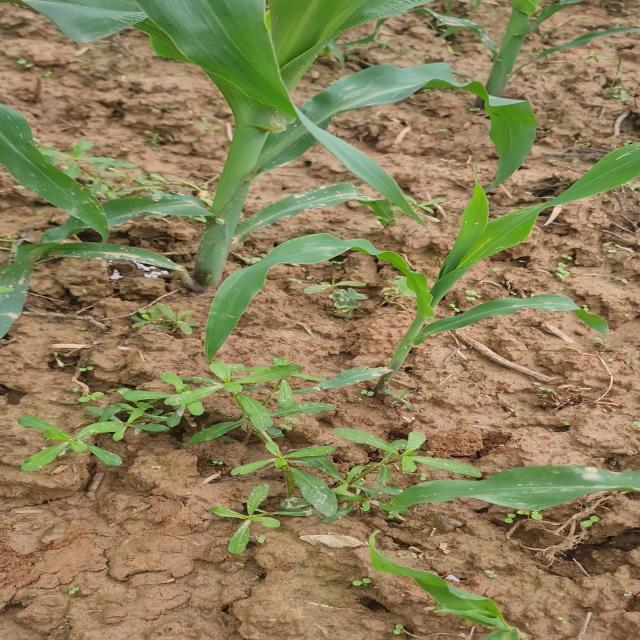maize: (0, 0, 557, 352), (420, 461, 640, 640)
weed: (71, 365, 385, 550)
